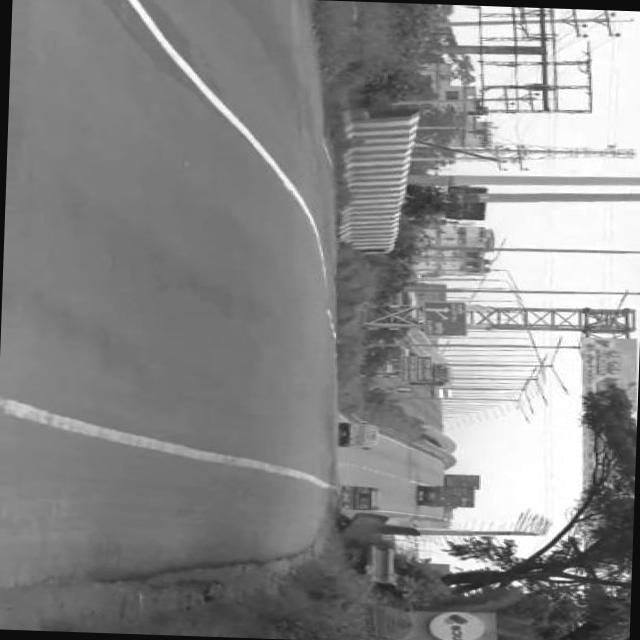motorcycle: (337, 485, 381, 515)
truck: (410, 484, 478, 512), (336, 420, 380, 453), (438, 474, 487, 495)
